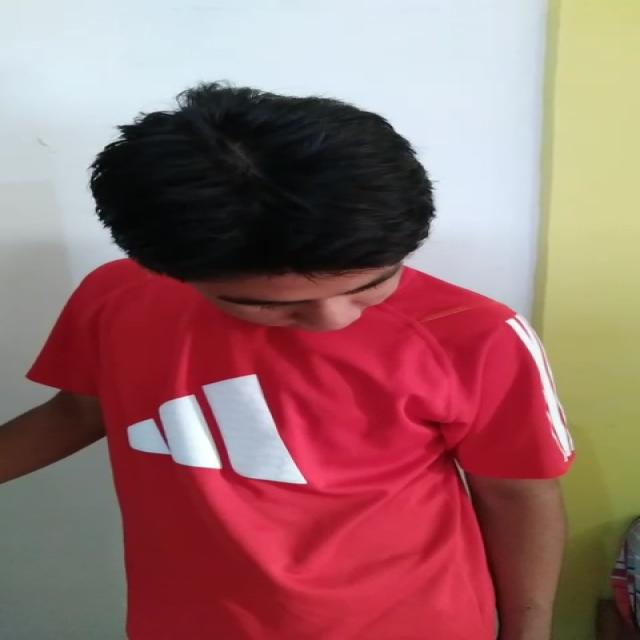9_cabeza_baja: (93, 86, 433, 328)
